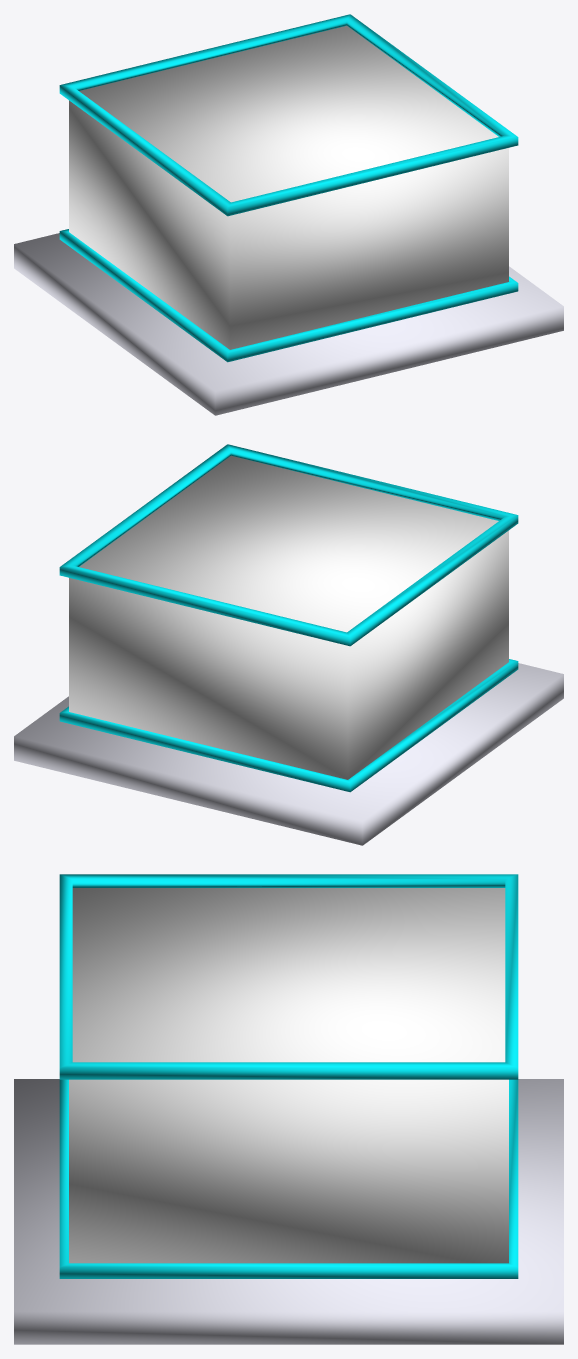
File: square_vanilla.glb
The picture shows the model from 3 angles, top to bottom: view 1: azimuth 30°, elevation 25°; view 2: azimuth 150°, elevation 25°; view 3: azimuth 270°, elevation 25°; orthographic projection. The views are drawn at different scales.
Parts seen in each view (by area): view 1: CakeBase, IcingStand, IcingRing.001, IcingRing.002; view 2: CakeBase, IcingStand, IcingRing.001, IcingRing.002; view 3: CakeBase, IcingStand, IcingRing.001, IcingRing.002.
Part boxes in pixels (x1,y1,x2,y2): CakeBase: [69, 25, 508, 349]; IcingStand: [14, 233, 563, 415]; IcingRing.001: [59, 14, 518, 216]; IcingRing.002: [59, 229, 518, 362]; CakeBase: [69, 455, 508, 779]; IcingStand: [14, 663, 563, 845]; IcingRing.001: [59, 444, 518, 646]; IcingRing.002: [59, 659, 518, 792]; CakeBase: [69, 888, 508, 1263]; IcingStand: [14, 1079, 563, 1344]; IcingRing.001: [59, 874, 518, 1079]; IcingRing.002: [59, 1079, 518, 1278].
Size of the model in its own units: 3 by 1.55 by 3.
